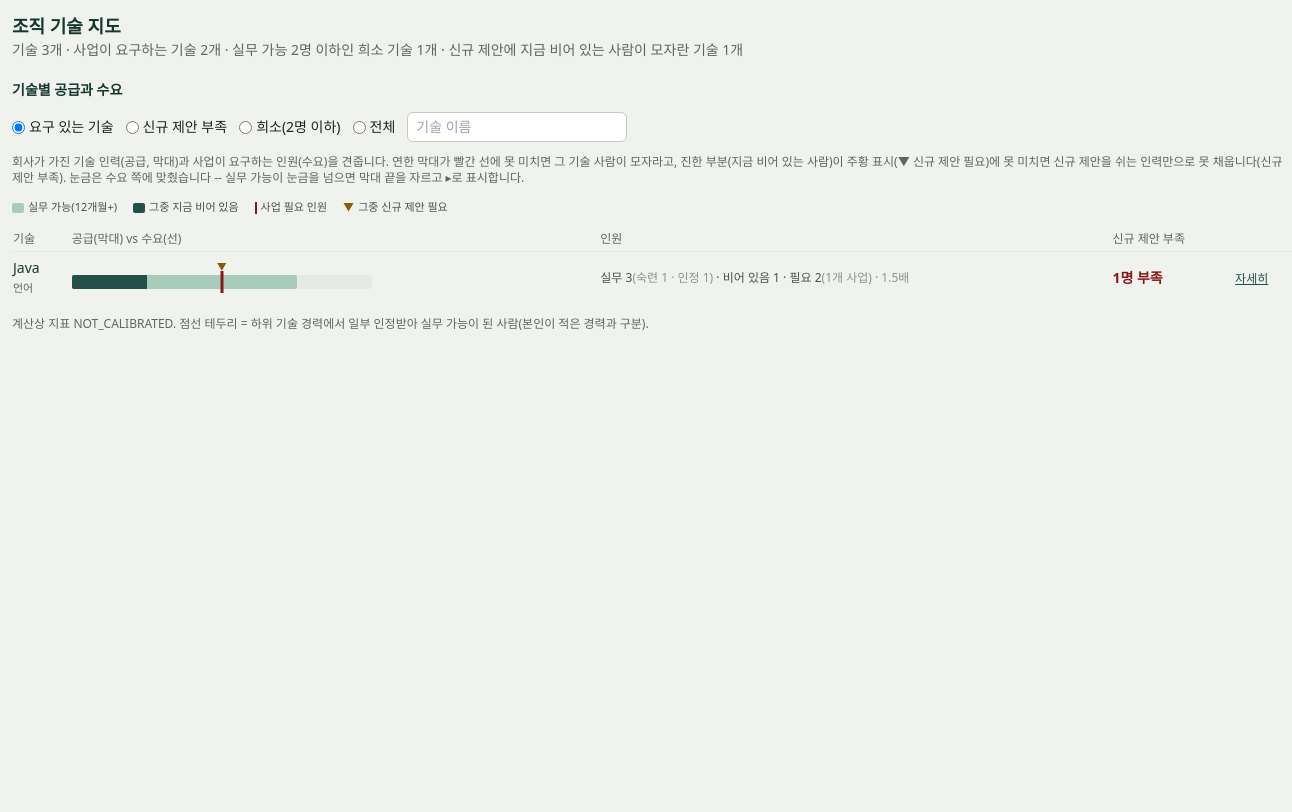
Scenario: SkillMapTab › 표는 공급/수요 막대 한 칸, 사람별 칸이 오면 자세히는 기술 관계 그림(2026-10-21)
The image size is (1292, 812).
Expected: the picture named "Java 공급 3명(비어 있음 1명), 필요 2명(신규 제안 2명)" is shown, left=72, top=275, right=372, bottom=289
Expected: the text "1명 부족" is shown, left=1112, top=252, right=1234, bottom=304
Click the button with aria-label "Java 자세히" at [1252, 279], box left=1235, top=271, right=1268, bottom=287
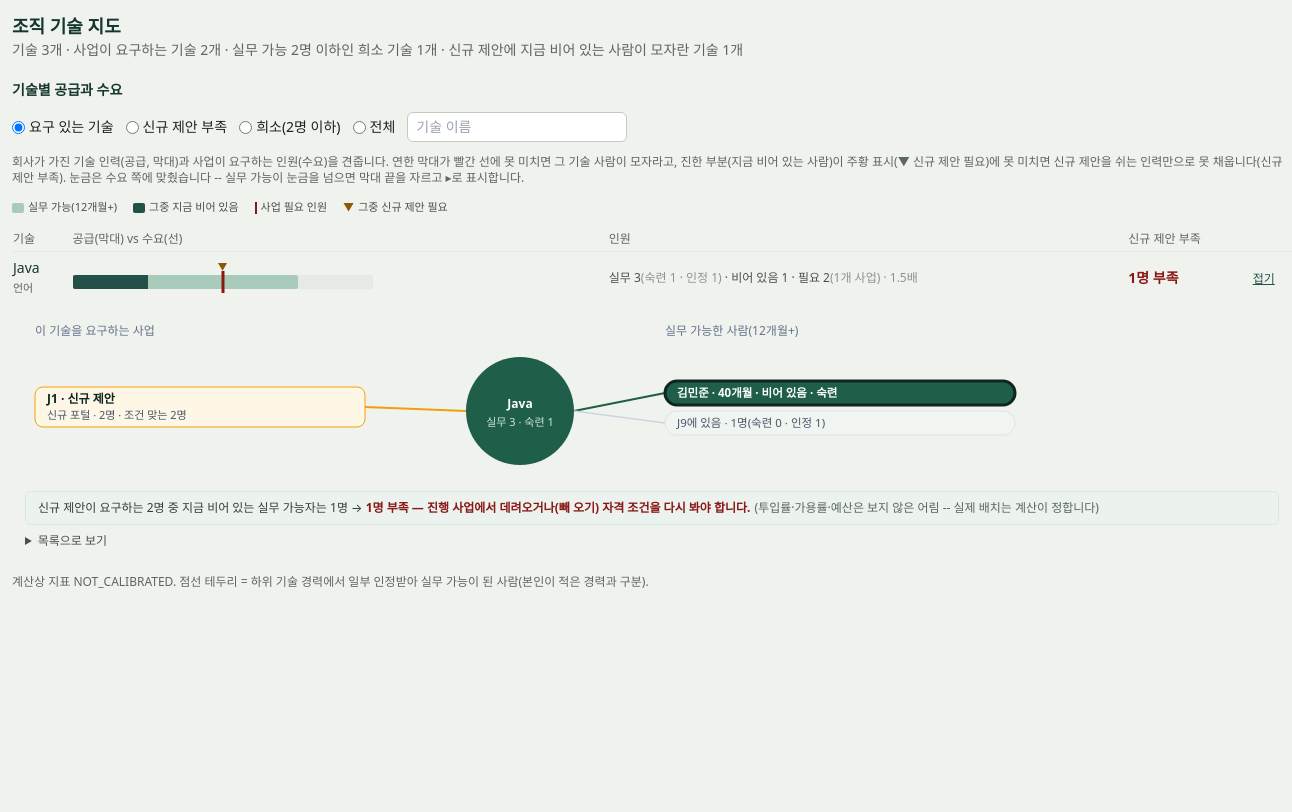
Now the picture named "Java 기술 관계" is shown, box left=25, top=317, right=1025, bottom=487
Now the heading "목록으로 보기" is shown, box left=38, top=532, right=107, bottom=549
